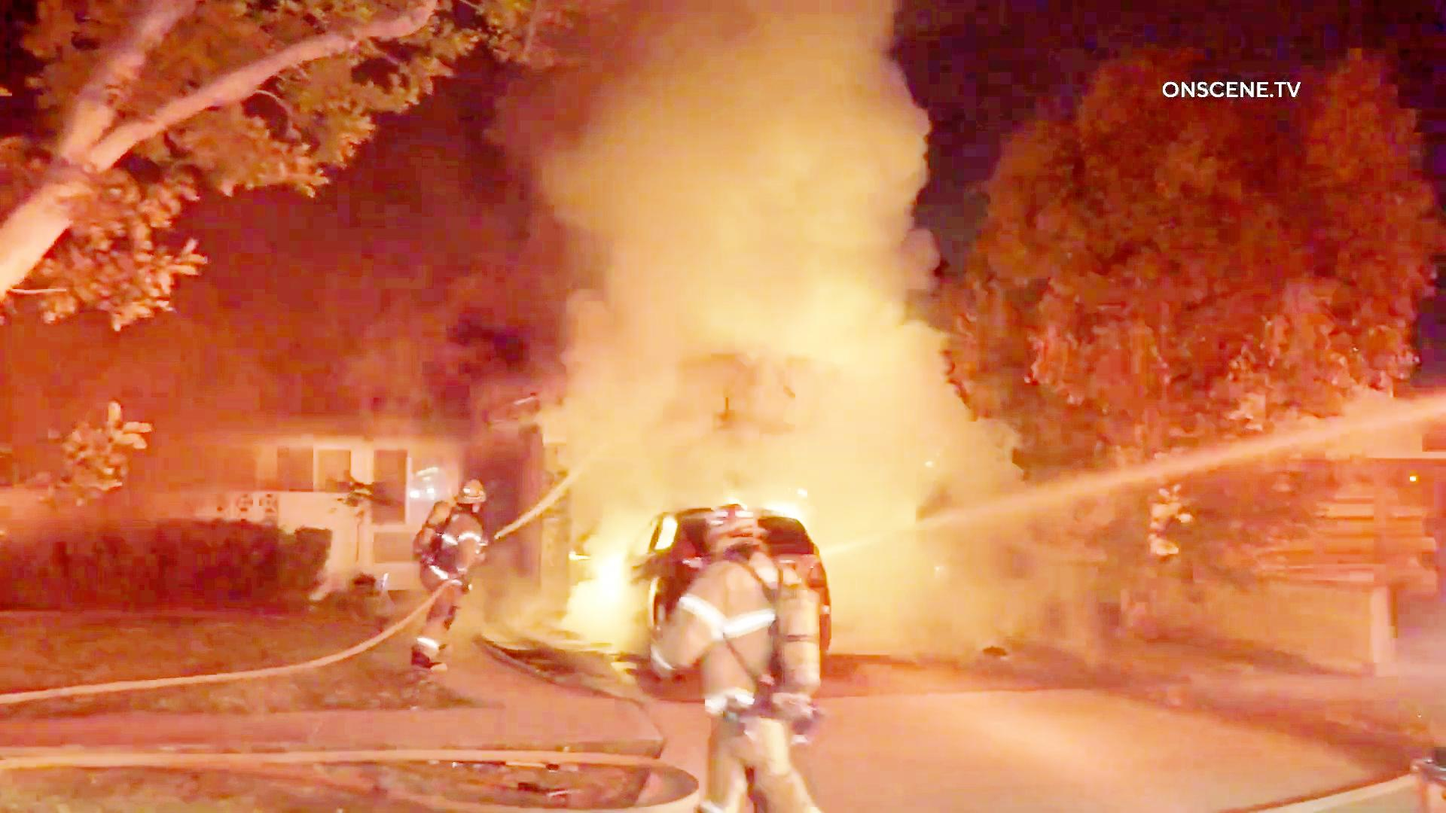fire: (755, 475, 838, 533), (575, 544, 629, 619)
smoke: (418, 140, 956, 446), (599, 8, 959, 150), (860, 544, 1028, 646)
